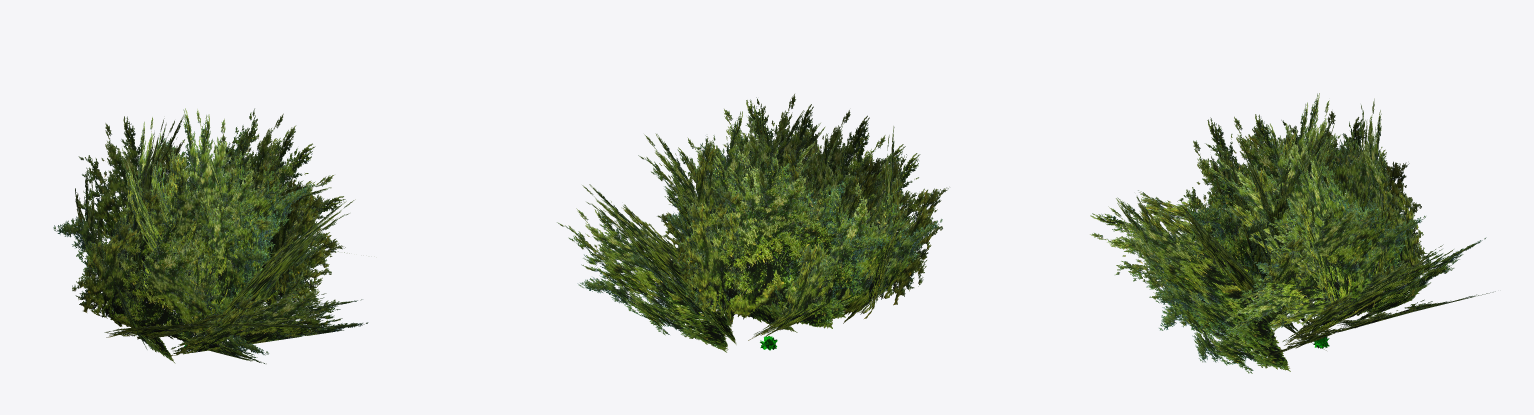
Rendered from Bush2.fbx.
3 renders of one model, left to right at view 1: azimuth 30°, elevation 25°; view 2: azimuth 150°, elevation 25°; view 3: azimuth 270°, elevation 25°, orthographic.
Visible parts, largest first — view 1: Tree_1; view 2: Tree_1; view 3: Tree_1.
Part boxes in pixels (bbox=[...]): Tree_1: bbox=[53, 108, 368, 363]; Tree_1: bbox=[557, 94, 948, 352]; Tree_1: bbox=[1090, 93, 1495, 373].
Size of the model in its own units: 30.94 by 23.21 by 33.59.
